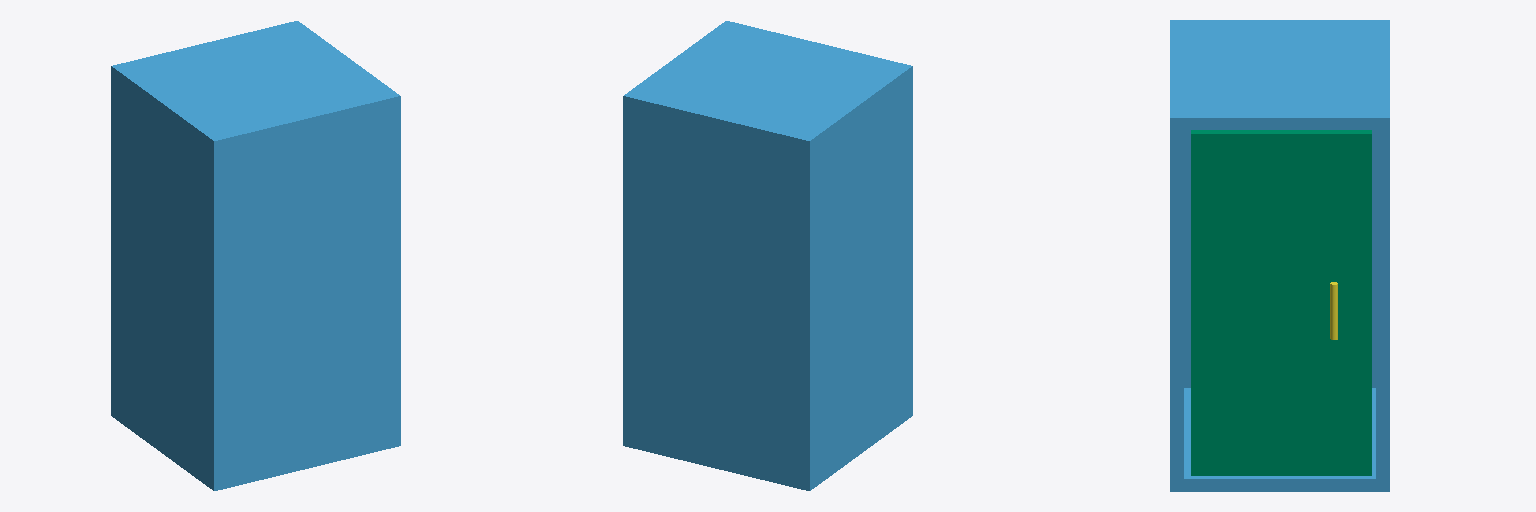
The robot description file, URDF, robot "my_cabinet":
<?xml version="1.0" ?>
<robot name="my_cabinet">
	<link name="world"/>
	<joint name="virtual_joint" type="fixed">
		<parent link="world"/>
		<child link="base_cabinet_link"/>
		<origin xyz="0.0 0.0 0.0" rpy="0.0 0.0 0.0"/>
	</joint>
	<link name="base_cabinet_link">
		<visual>
			<origin xyz="0.0 -0.0025 -0.2601724083603372" rpy="0.0 0.0 0.0"/>
			<geometry>
				<box size="0.3 0.28706653910903907 0.018"/>
			</geometry>
		</visual>
		<collision name="base_cabinet_link_collision_0">
			<origin xyz="0.0 -0.0025 -0.2601724083603372" rpy="0.0 0.0 0.0"/>
			<geometry>
				<box size="0.3 0.28706653910903907 0.018"/>
			</geometry>
		</collision>
		<visual>
			<origin xyz="0.0 0.13203326955451955 0.0" rpy="0.0 0.0 0.0"/>
			<geometry>
				<box size="0.3 0.018 0.5383448167206745"/>
			</geometry>
		</visual>
		<collision name="base_cabinet_link_collision_1">
			<origin xyz="0.0 0.13203326955451955 0.0" rpy="0.0 0.0 0.0"/>
			<geometry>
				<box size="0.3 0.018 0.5383448167206745"/>
			</geometry>
		</collision>
		<visual>
			<origin xyz="0.0 -0.13703326955451955 0.0" rpy="0.0 0.0 0.0"/>
			<geometry>
				<box size="0.3 0.018 0.5383448167206745"/>
			</geometry>
		</visual>
		<collision name="base_cabinet_link_collision_2">
			<origin xyz="0.0 -0.13703326955451955 0.0" rpy="0.0 0.0 0.0"/>
			<geometry>
				<box size="0.3 0.018 0.5383448167206745"/>
			</geometry>
		</collision>
		<visual>
			<origin xyz="0.0 -0.0025 0.2601724083603372" rpy="0.0 0.0 0.0"/>
			<geometry>
				<box size="0.3 0.28706653910903907 0.018"/>
			</geometry>
		</visual>
		<collision name="base_cabinet_link_collision_3">
			<origin xyz="0.0 -0.0025 0.2601724083603372" rpy="0.0 0.0 0.0"/>
			<geometry>
				<box size="0.3 0.28706653910903907 0.018"/>
			</geometry>
		</collision>
		<visual>
			<origin xyz="-0.141 -0.0025 0.0" rpy="0.0 0.0 0.0"/>
			<geometry>
				<box size="0.018 0.28706653910903907 0.5383448167206745"/>
			</geometry>
		</visual>
		<collision name="base_cabinet_link_collision_4">
			<origin xyz="-0.141 -0.0025 0.0" rpy="0.0 0.0 0.0"/>
			<geometry>
				<box size="0.018 0.28706653910903907 0.5383448167206745"/>
			</geometry>
		</collision>
		<inertial>
			<mass value="0.200000"/>
			<inertia ixx="0.006204" ixy="0.0" ixz="0.0" iyy="0.006330" iyz="0.0" izz="0.002873"/>
		</inertial>
	</link>
	<link name="door_link">
		<visual>
			<origin xyz="0.0 -0.11803326955451954 0.0"/>
			<geometry>
				<box size="0.018 0.23606653910903908 0.4923448167206744"/>
			</geometry>
		</visual>
		<collision name="door_link_collision">
			<origin xyz="0.0 -0.11803326955451954 0.0"/>
			<geometry>
				<box size="0.018 0.23606653910903908 0.4923448167206744"/>
			</geometry>
		</collision>
		<inertial>
			<mass value="0.200000"/>
			<inertia ixx="0.004969" ixy="0.0" ixz="0.0" iyy="0.004045" iyz="0.0" izz="0.000934"/>
		</inertial>
	</link>
	<joint name="door_joint" type="revolute">
		<origin xyz="0.141 -0.11803326955451954 0.0" rpy="0.000000 -0.000000 3.141593"/>
		<axis xyz="0 0 1"/>
		<parent link="base_cabinet_link"/>
		<child link="door_link"/>
		<limit effort="50" lower="-1.658062789394613" upper="0" velocity="10"/>
		<dynamics friction="3.5" damping="3.5"/>
	</joint>
	<link name="handle_link">
		<visual>
			<origin xyz="0.0 0.0 0.0" rpy="0.0 0.0 0.0"/>
			<geometry>
				<cylinder length="0.08" radius="0.005"/>
			</geometry>
		</visual>
		<collision name="handle_link_collision_0">
			<origin xyz="0.0 0.0 0.0" rpy="0.0 0.0 0.0"/>
			<geometry>
				<cylinder length="0.08" radius="0.005"/>
			</geometry>
		</collision>
		<visual>
			<origin xyz="-0.01 0.0 0.02" rpy="0.0 1.5707963267948966 0.0"/>
			<geometry>
				<cylinder length="0.02" radius="0.003"/>
			</geometry>
		</visual>
		<collision name="handle_link_collision_1">
			<origin xyz="-0.01 0.0 0.02" rpy="0.0 1.5707963267948966 0.0"/>
			<geometry>
				<cylinder length="0.01" radius="0.003"/>
			</geometry>
		</collision>
		<visual>
			<origin xyz="-0.01 0.0 -0.02" rpy="0.0 1.5707963267948966 0.0"/>
			<geometry>
				<cylinder length="0.02" radius="0.003"/>
			</geometry>
		</visual>
		<collision name="handle_link_collision_2">
			<origin xyz="-0.01 0.0 -0.02" rpy="0.0 1.5707963267948966 0.0"/>
			<geometry>
				<cylinder length="0.02" radius="0.003"/>
			</geometry>
		</collision>
		<inertial>
			<mass value="0.050000"/>
			<inertia ixx="0.000027" ixy="0.0" ixz="0.0" iyy="0.000029" iyz="0.0" izz="0.000003"/>
		</inertial>
	</link>
	<joint name="handle_joint" type="fixed">
		<origin xyz="-0.028999999999999998 -0.1860665391090391 0.0" rpy="0.000000 -0.000000 3.141593"/>
		<parent link="door_link"/>
		<child link="handle_link"/>
	</joint>
	<gazebo reference="base_cabinet_link">
		<sensor name="main_sensor" type="contact">
			<selfCollide>true</selfCollide>
			<alwaysOn>true</alwaysOn>
			<updateRate>5.0</updateRate>
			<material>Gazebo/Red</material>
			<contact>
				<collision>base_cabinet_link_collision_0_collision</collision>
				<collision>base_cabinet_link_collision_1_collision</collision>
				<collision>base_cabinet_link_collision_2_collision</collision>
				<collision>base_cabinet_link_collision_3_collision</collision>
				<collision>base_cabinet_link_collision_4_collision</collision>
			</contact>
			<plugin name="gazebo_ros_bumper_controller" filename="libgazebo_ros_bumper.so">
				<bumperTopicName>/contact</bumperTopicName>
				<frameName>world</frameName>
			</plugin>
		</sensor>
	</gazebo>
	<gazebo reference="door_link">
		<sensor name="main_sensor" type="contact">
			<selfCollide>true</selfCollide>
			<alwaysOn>true</alwaysOn>
			<updateRate>5.0</updateRate>
			<material>Gazebo/Red</material>
			<contact>
				<collision>door_link_collision_collision</collision>
			</contact>
			<plugin name="gazebo_ros_bumper_controller" filename="libgazebo_ros_bumper.so">
				<bumperTopicName>/contact_door</bumperTopicName>
				<frameName>contact_door</frameName>
			</plugin>
		</sensor>
	</gazebo>
	<gazebo reference="door_link">
		<mu>3.0</mu>
		<mu2>3.0</mu2>
		<kp>10000000</kp>
		<kd>100</kd>
	</gazebo>
</robot>

--- What the picture shows (computed from the rendered views, not written in the file) ---
The picture shows the robot from 3 angles, left to right: view 1: azimuth 30°, elevation 25°; view 2: azimuth 150°, elevation 25°; view 3: azimuth 270°, elevation 25°; orthographic projection.
Robot: my_cabinet — 4 links, 3 joints (1 revolute, 2 fixed); root link world; default pose: every joint at zero.
Links seen in each view (by area): view 1: base_cabinet_link; view 2: base_cabinet_link; view 3: door_link, base_cabinet_link.
Link boxes in pixels (x1,y1,x2,y2): base_cabinet_link: (111,21,400,490); base_cabinet_link: (623,21,912,490); door_link: (1191,130,1371,475); base_cabinet_link: (1170,20,1389,491).
Size in the robot's own frame: 0.325 by 0.2871 by 0.5383 metres.
Geometry: primitives only (box / cylinder / sphere), no mesh files.
